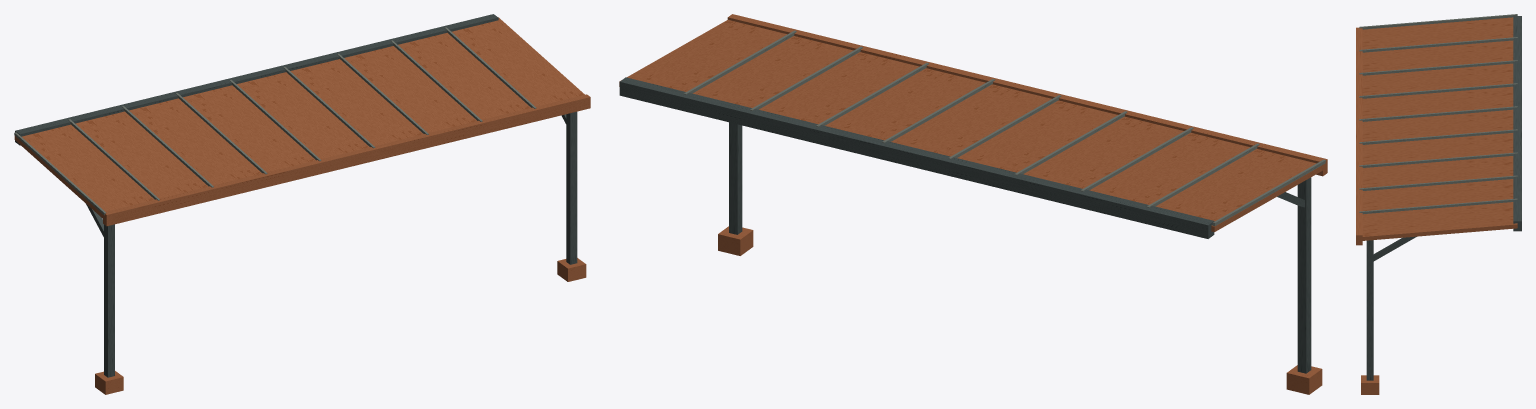
File: CounterAwning.fbx
The picture shows the model from 3 angles, left to right: view 1: azimuth 30°, elevation 25°; view 2: azimuth 150°, elevation 25°; view 3: azimuth 270°, elevation 25°; orthographic projection. The views are drawn at different scales.
Parts seen in each view (by area): view 1: CounterAwning; view 2: CounterAwning; view 3: CounterAwning.
Part boxes in pixels (x1,y1,x2,y2): CounterAwning: (14,14,590,394); CounterAwning: (619,14,1327,394); CounterAwning: (1356,14,1521,394).
Bounding box in the file's own units: 901 × 351 × 304.
